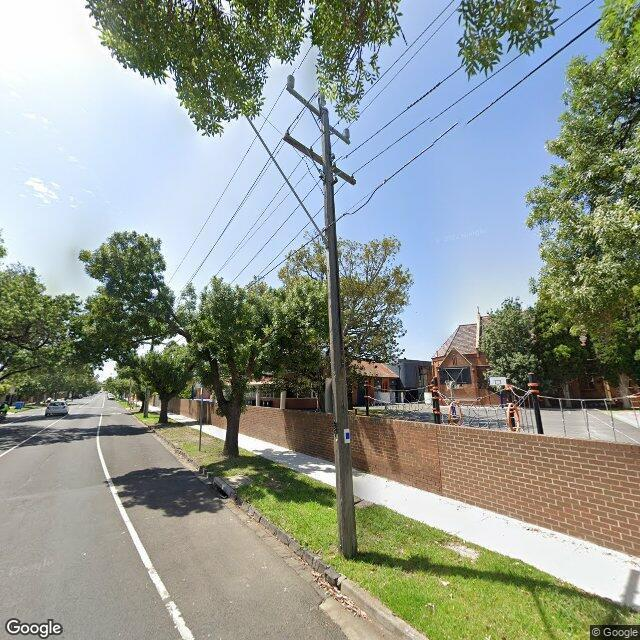HV-transmission: (287, 74, 349, 140)
crossarm: (283, 133, 356, 186), (286, 86, 350, 145), (140, 342, 167, 344)
timber-pole: (321, 108, 358, 559), (144, 338, 154, 418)
